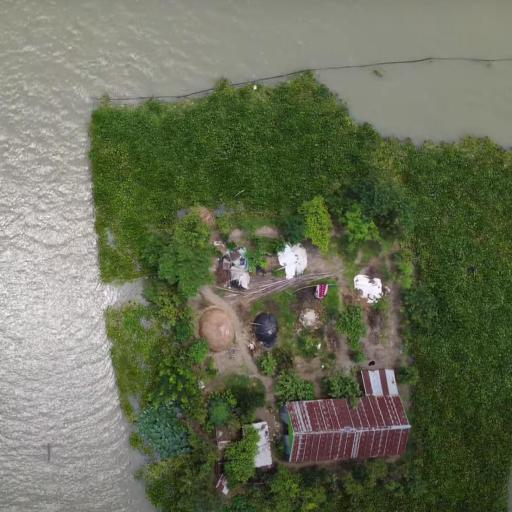flood: (0, 1, 512, 511), (316, 61, 512, 146)
house: (278, 370, 418, 476)
